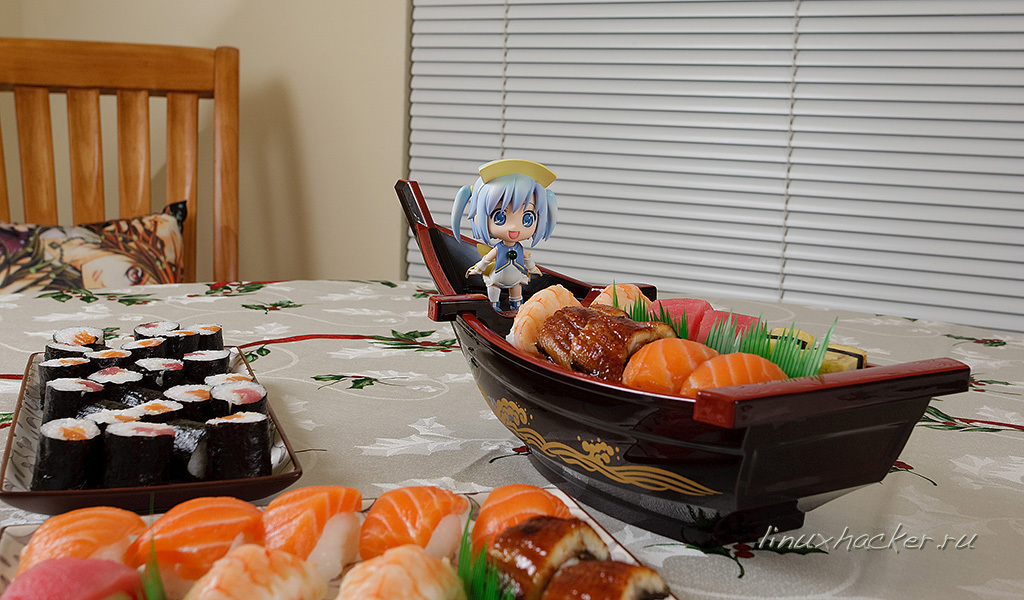sushi: (2, 481, 676, 599), (34, 320, 269, 485), (514, 284, 783, 392), (37, 420, 99, 462)
